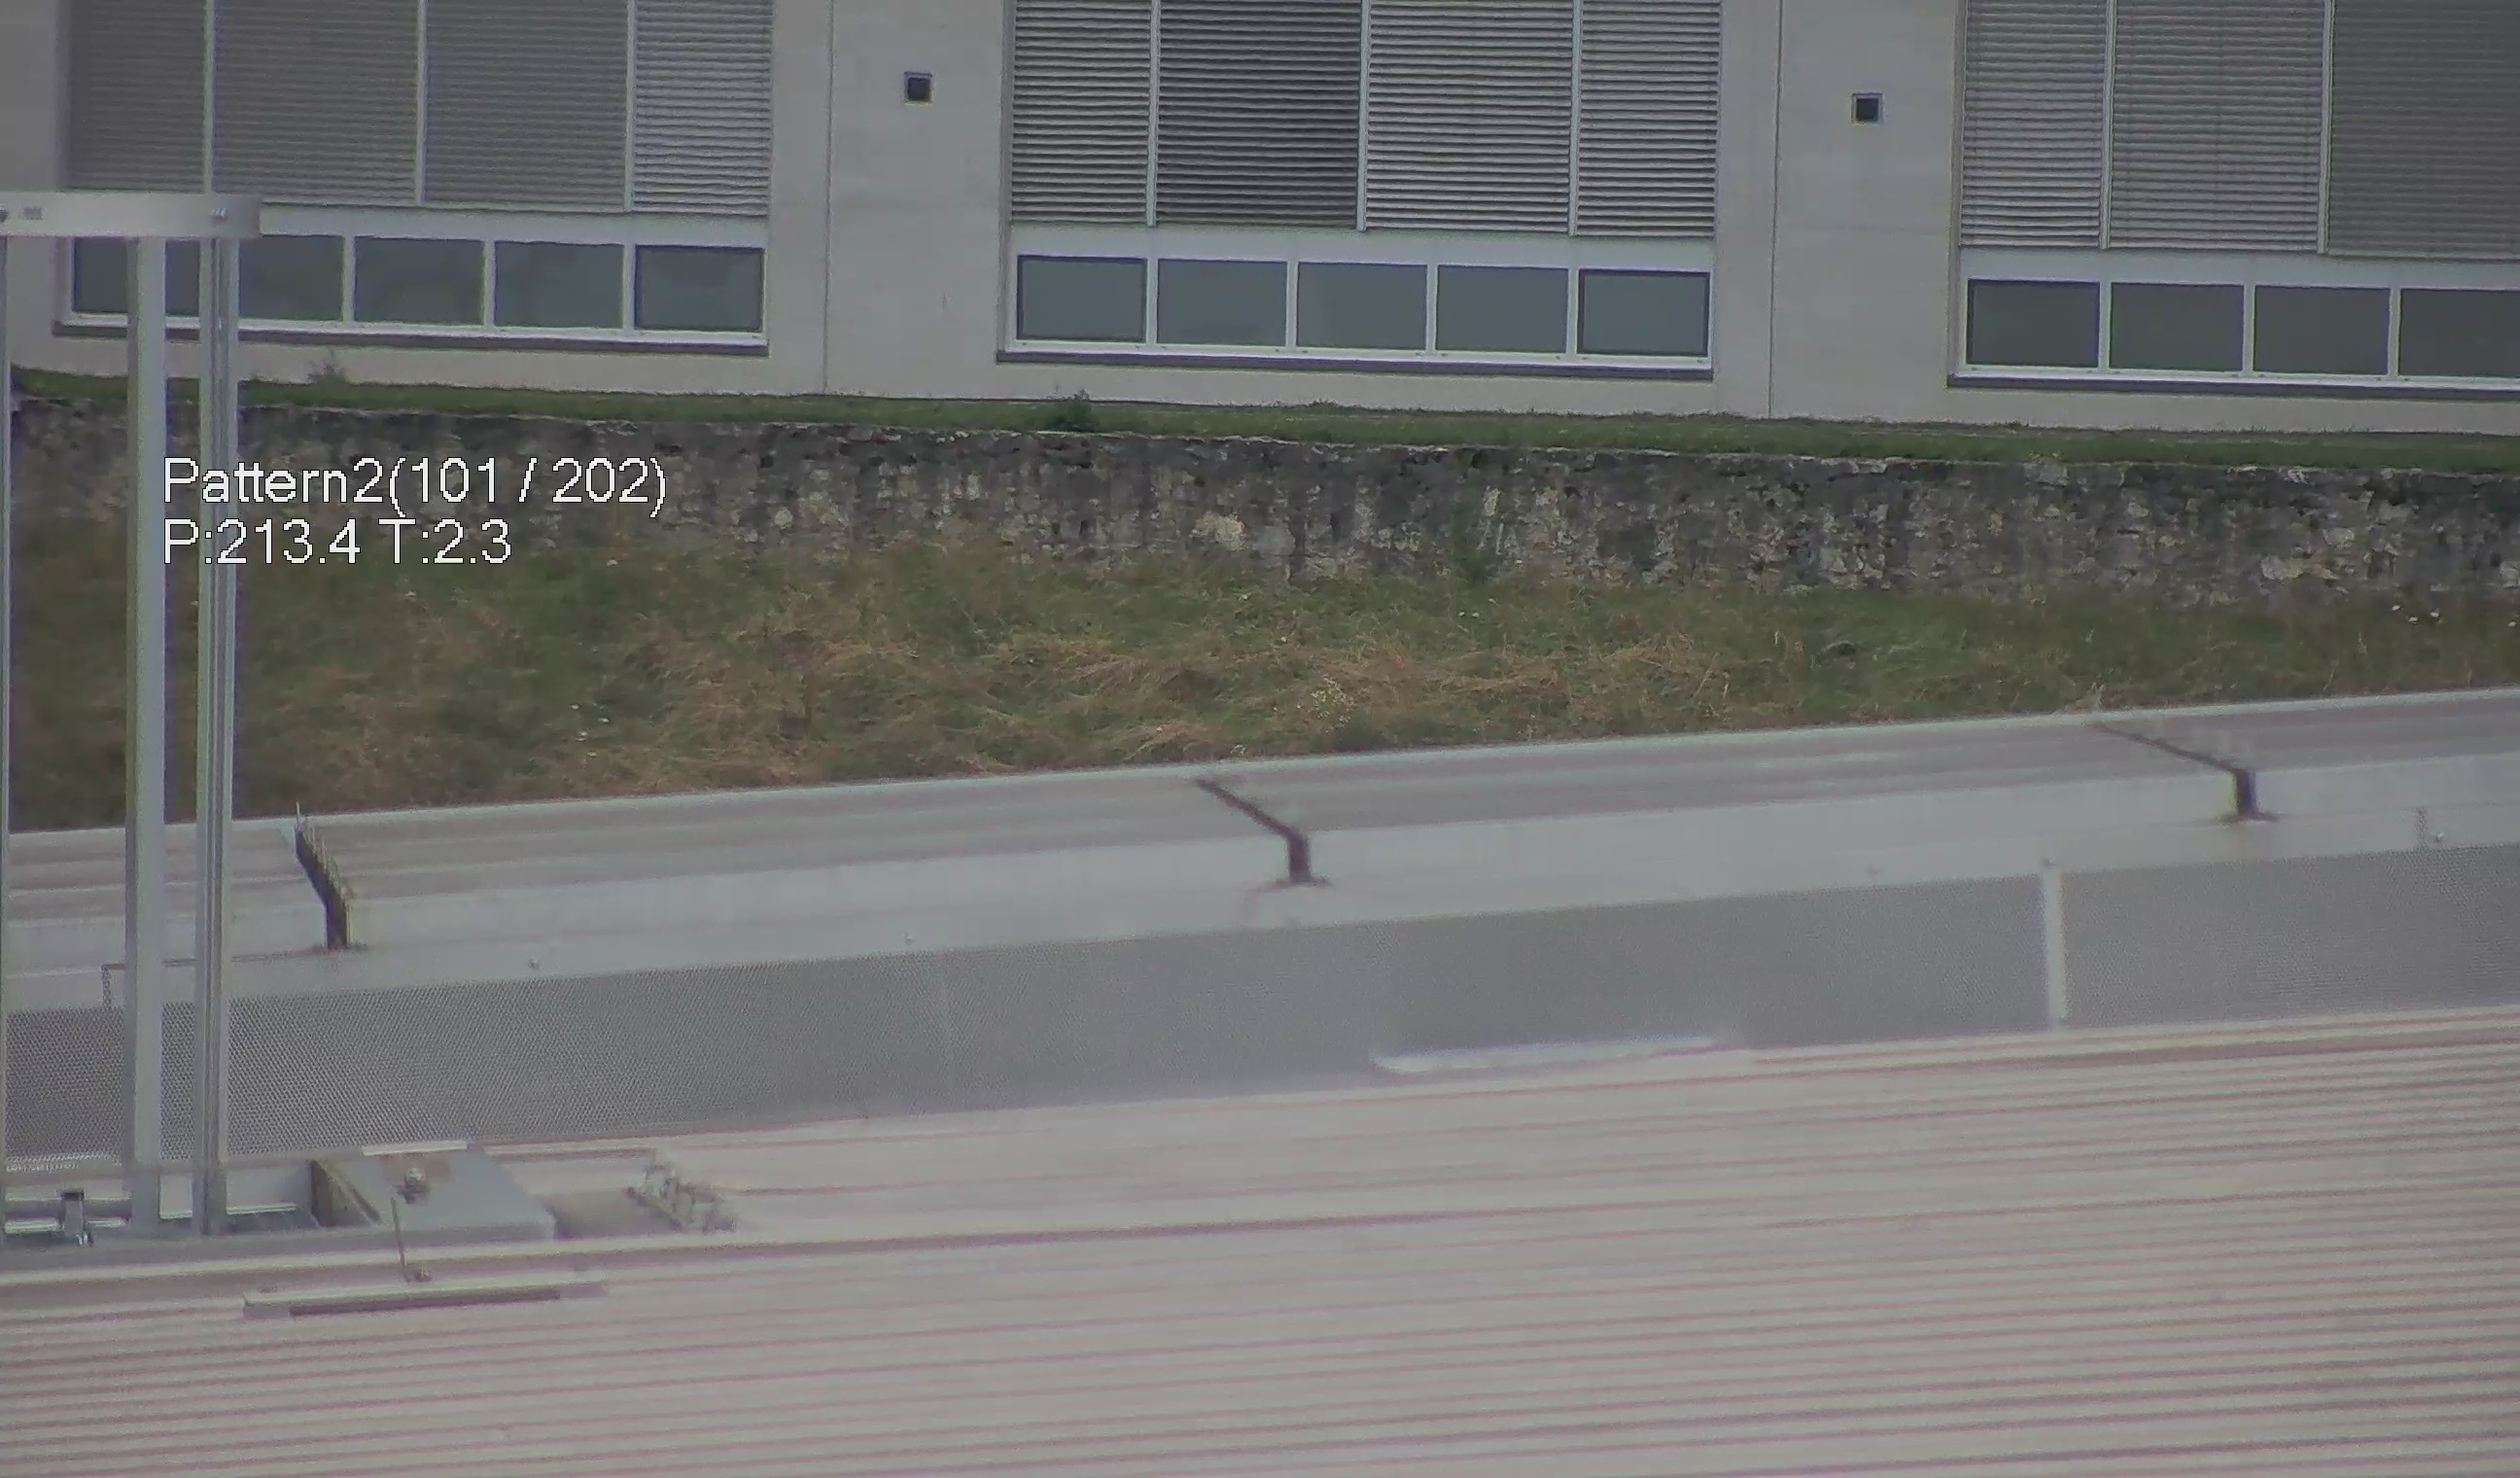Other: (278, 794, 368, 961)
